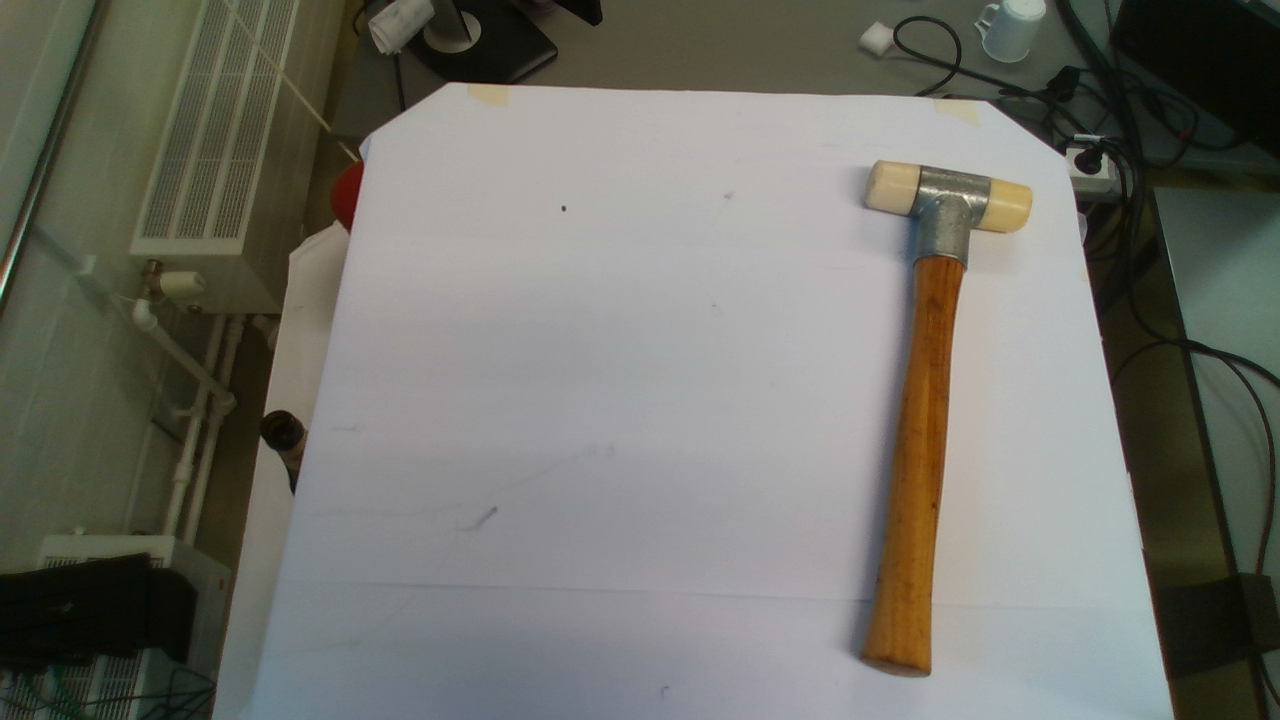hammer: (858, 159, 1037, 685)
